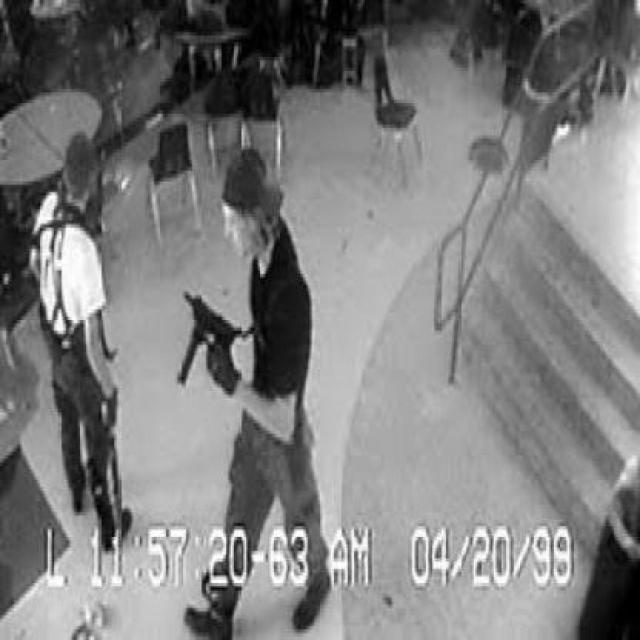weapon: (174, 290, 241, 390)
